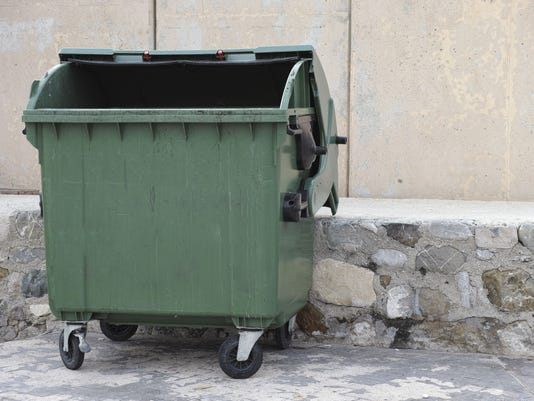Dumpster: (17, 44, 352, 386)
